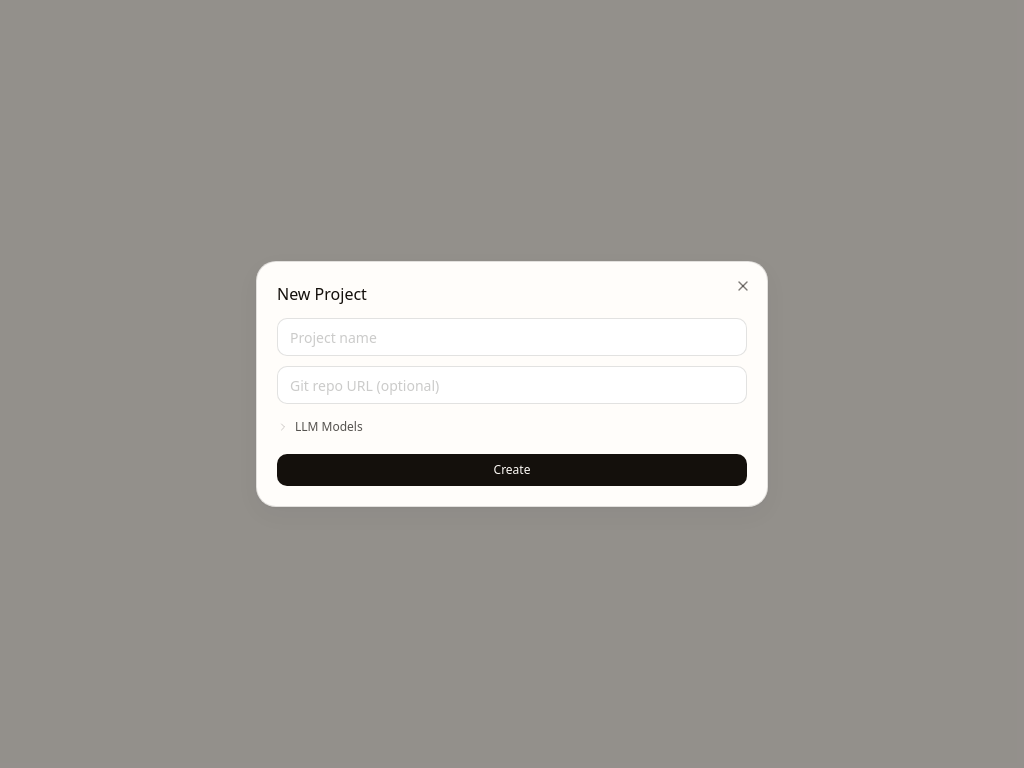
ProjectSelector › a new project does not inherit the previous project's connections or role
Type "Fresh" into the field with placeholder "Project name" at (512, 337), box [277,318,747,356]
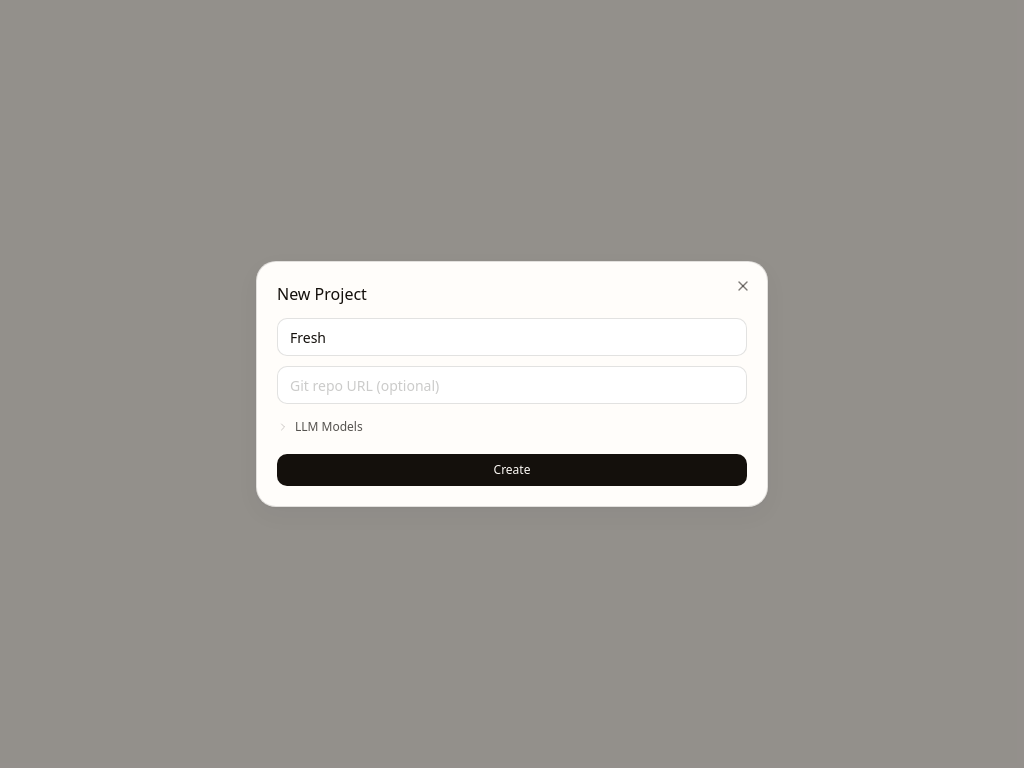
Click the button "Create" at (512, 470), box [277,454,747,486]
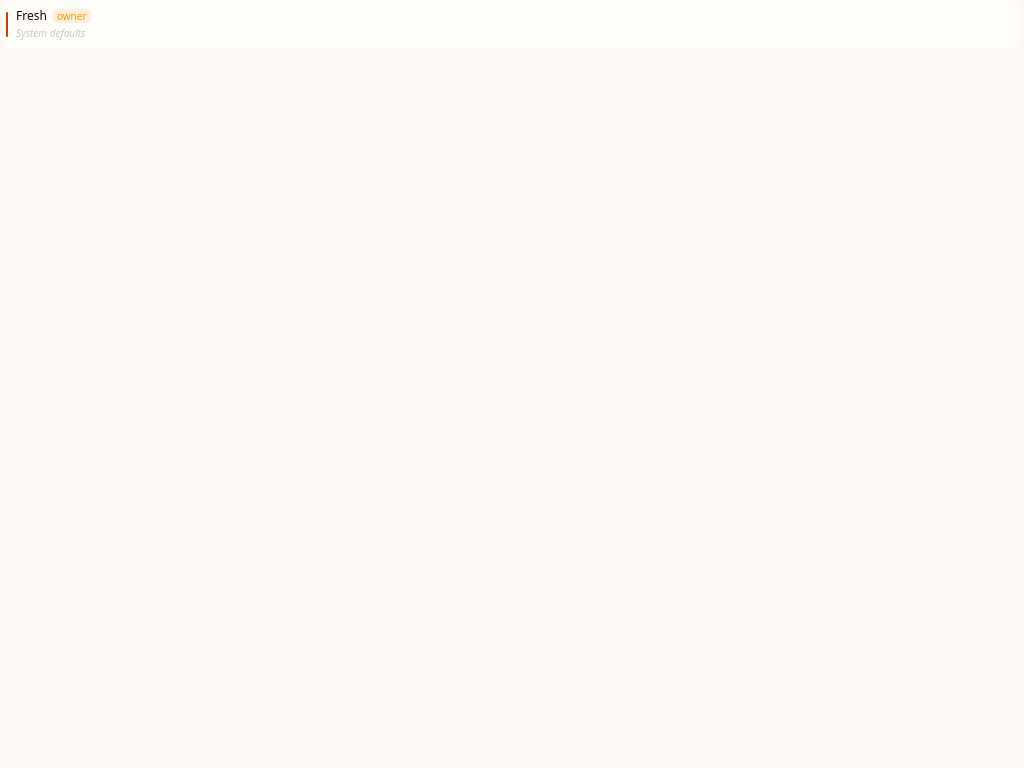
Result: the text "owner" is shown at [53,9,91,23]
